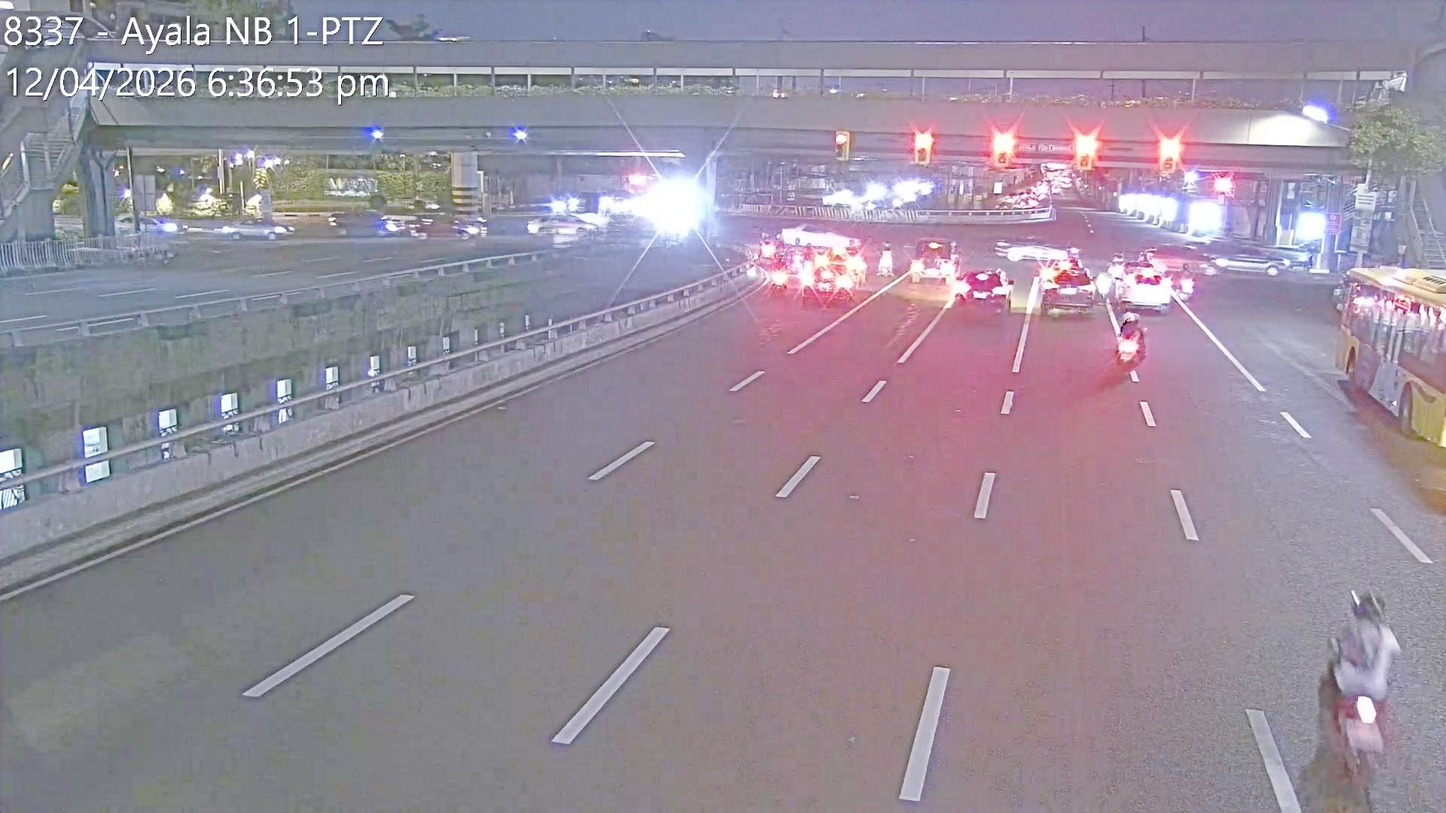Car: (1037, 261, 1100, 319), (1114, 262, 1176, 315), (1141, 239, 1221, 278), (1200, 246, 1292, 278), (955, 268, 1016, 316), (909, 236, 963, 285), (780, 217, 861, 249), (798, 261, 857, 304), (331, 206, 410, 237), (994, 234, 1074, 262), (529, 215, 599, 245), (218, 216, 291, 242), (414, 212, 479, 241), (1037, 252, 1083, 286)
Motor: (1112, 309, 1146, 367), (768, 254, 789, 301), (1178, 261, 1196, 301), (876, 241, 894, 276), (756, 230, 771, 263), (849, 236, 861, 269), (793, 236, 802, 269), (804, 241, 815, 266), (776, 232, 785, 259)
Not Accident: (1106, 260, 1175, 369), (1144, 242, 1287, 277), (795, 239, 860, 304), (1038, 252, 1097, 314)
